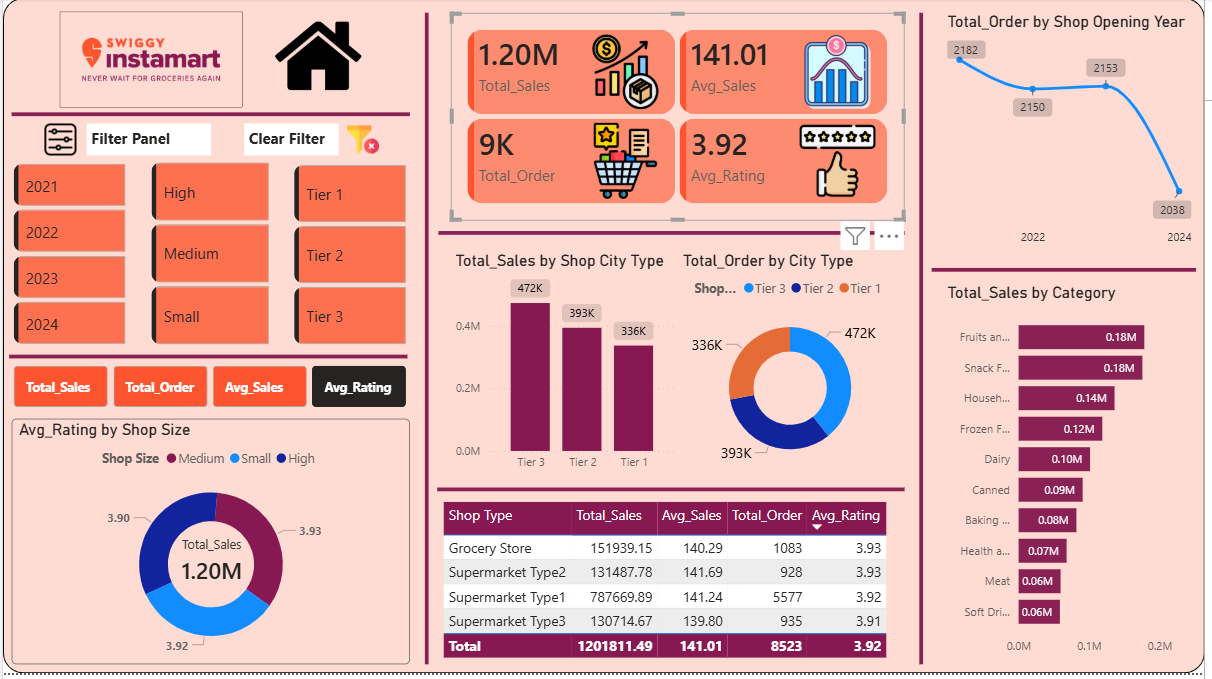

Layout of this report page (visuals, bound fields, positions):
{"tool":"powerbi","page":{"name":"Page 1","canvas":[1280,720],"ordinal":0},"visuals":[{"type":"shape","box":[0,0,1280.6,719.6],"z":0},{"type":"image","box":[51.1,9.2,201.8,107.5],"z":1000},{"type":"cardVisual","fields":{"Data":["Grocery Shop.Total_Sales","Grocery Shop.Avg_Sales","Grocery Shop.Total_Order","Grocery Shop.Avg_Rating"]},"box":[477.1,15.7,483.7,221.5],"z":2000},{"type":"advancedSlicerVisual","fields":{"Values":["Metric.Metric"]},"box":[6.6,391.9,429.9,44.6],"z":3000},{"type":"donutChart","title":"Total_Sales by Shop Size","fields":{"Y":["Grocery Shop.Total_Sales","Grocery Shop.Total_Order","Grocery Shop.Avg_Sales","Grocery Shop.Avg_Rating"],"Category":["Grocery Shop.Shop Size"]},"box":[9.2,448.3,424.7,262.1],"z":4000},{"type":"cardVisual","fields":{"Data":["Grocery Shop.Total_Sales"]},"box":[127.1,542.6,188.7,133.7],"z":5000},{"type":"clusteredColumnChart","title":"Total_Sales by  City Type","fields":{"Category":["Grocery Shop.Shop City Type"],"Y":["Grocery Shop.Total_Sales"]},"box":[477.1,270,245.1,243.8],"z":6000},{"type":"donutChart","title":"Total_Order by City Type","fields":{"Category":["Grocery Shop.Shop City Type"],"Y":["Grocery Shop.Total_Sales"]},"box":[719.6,270,238.6,243.8],"z":7000},{"type":"tableEx","fields":{"Values":["Grocery Shop.Shop Type","Grocery Shop.Total_Sales","Grocery Shop.Avg_Sales","Grocery Shop.Total_Order","Grocery Shop.Avg_Rating"]},"box":[464,532.2,496.8,178.3],"z":8000},{"type":"lineChart","title":"Shops Opening Year wise","fields":{"Category":["Grocery Shop.Shop Opening Year"],"Y":["Grocery Shop.Total_Order"]},"box":[1001.4,15.7,270,258.2],"z":9000},{"type":"clusteredBarChart","fields":{"Category":["Grocery Shop.Category"],"Y":["Grocery Shop.Total_Sales"]},"box":[1001.4,304.1,270,406.3],"z":10000},{"type":"advancedSlicerVisual","fields":{"Values":["Grocery Shop.Shop Opening Year"]},"box":[6.6,171.7,129.8,203.2],"z":11000},{"type":"advancedSlicerVisual","fields":{"Values":["Grocery Shop.Shop Size"]},"box":[153.4,170.4,135,204.5],"z":12000},{"type":"advancedSlicerVisual","fields":{"Values":["Grocery Shop.Shop City Type"]},"box":[305.4,173,129.8,201.8],"z":13000},{"type":"textbox","box":[89.1,133.7,132.4,34.1],"z":14000},{"type":"image","box":[32.8,133.7,56.4,34.1],"z":15000},{"type":"textbox","box":[256.9,133.7,100.9,34.1],"z":16000},{"type":"image","box":[361.8,133.7,44.6,34.1],"z":17000},{"type":"image","box":[288.4,15.7,129.8,91.8],"z":18000},{"type":"shape","box":[9.2,118,424.7,11.8],"z":19000},{"type":"shape","box":[6.6,376.2,424.7,11.8],"z":20000},{"type":"shape","box":[440.4,15.7,22.3,694.7],"z":21000},{"type":"shape","box":[967.3,15.7,22.3,694.7],"z":22000},{"type":"shape","box":[464,242.5,496.8,15.7],"z":23000},{"type":"shape","box":[462.7,515.1,498.1,17],"z":24000},{"type":"shape","box":[989.6,283.1,281.8,13.1],"z":25000}]}

Visuals, with their boxes in screenshot pixels (x1, y1, x2, y2), scaled from the page's 1280x720 canvas onto the 1212x679 screenshot:
shape: bbox=(0, 0, 1211, 678)
image: bbox=(48, 9, 239, 110)
cardVisual - Grocery Shop.Total_Sales x Grocery Shop.Avg_Sales: bbox=(452, 15, 910, 224)
advancedSlicerVisual - Metric.Metric: bbox=(6, 370, 413, 412)
"Total_Sales by Shop Size" donutChart: bbox=(9, 423, 411, 670)
cardVisual - Grocery Shop.Total_Sales: bbox=(120, 512, 299, 638)
"Total_Sales by  City Type" clusteredColumnChart: bbox=(452, 255, 684, 485)
"Total_Order by City Type" donutChart: bbox=(681, 255, 907, 485)
tableEx - Grocery Shop.Shop Type x Grocery Shop.Total_Sales: bbox=(439, 502, 910, 670)
"Shops Opening Year wise" lineChart: bbox=(948, 15, 1204, 258)
clusteredBarChart - Grocery Shop.Category x Grocery Shop.Total_Sales: bbox=(948, 287, 1204, 670)
advancedSlicerVisual - Grocery Shop.Shop Opening Year: bbox=(6, 162, 129, 354)
advancedSlicerVisual - Grocery Shop.Shop Size: bbox=(145, 161, 273, 354)
advancedSlicerVisual - Grocery Shop.Shop City Type: bbox=(289, 163, 412, 353)
textbox: bbox=(84, 126, 210, 158)
image: bbox=(31, 126, 84, 158)
textbox: bbox=(243, 126, 339, 158)
image: bbox=(343, 126, 385, 158)
image: bbox=(273, 15, 396, 101)
shape: bbox=(9, 111, 411, 122)
shape: bbox=(6, 355, 408, 366)
shape: bbox=(417, 15, 438, 670)
shape: bbox=(916, 15, 937, 670)
shape: bbox=(439, 229, 910, 243)
shape: bbox=(438, 486, 910, 502)
shape: bbox=(937, 267, 1204, 279)
